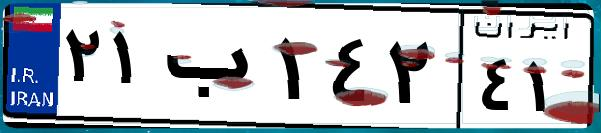1: (270, 28, 330, 110), (525, 38, 570, 115), (110, 28, 158, 98)
2: (385, 28, 445, 110), (57, 26, 110, 100)
4: (330, 28, 385, 110), (475, 38, 525, 113)
ب: (158, 20, 270, 120)
